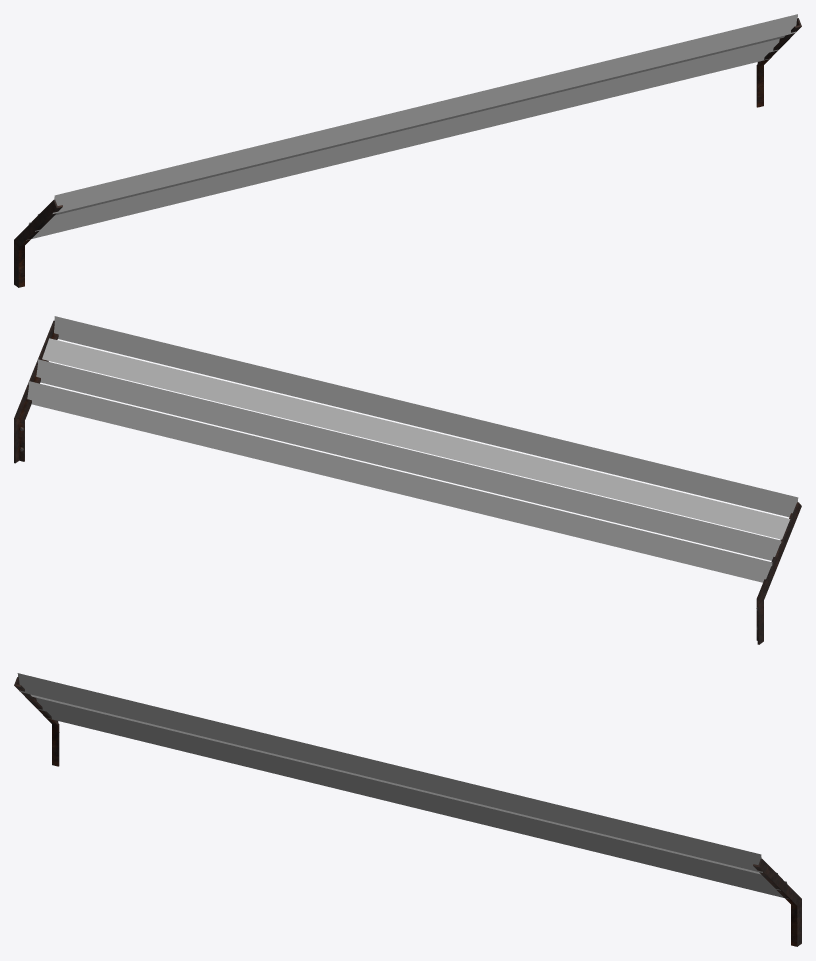
File: SM_fence_rack_big.FBX
The picture shows the model from 3 angles, top to bottom: view 1: azimuth 30°, elevation 25°; view 2: azimuth 150°, elevation 25°; view 3: azimuth 330°, elevation 25°; orthographic projection.
Visible parts, largest first — view 1: fence_rack_big; view 2: fence_rack_big; view 3: fence_rack_big.
Boxes of the visible parts, bbox=[...] form: fence_rack_big: bbox=[14, 14, 801, 287]; fence_rack_big: bbox=[14, 316, 801, 644]; fence_rack_big: bbox=[14, 673, 801, 946].
Size of what is drawn, in the model's own units: 381 by 57.67 by 37.85.
